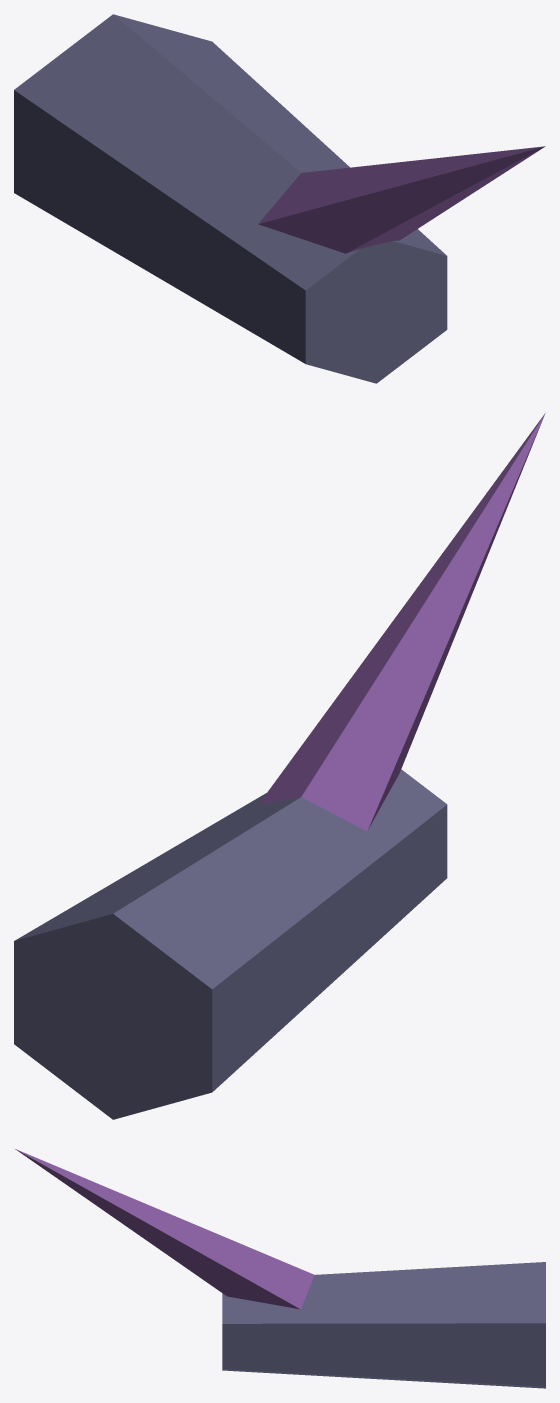
File: shadow_stalker_tail.glb
The picture shows the model from 3 angles, top to bottom: view 1: azimuth 30°, elevation 25°; view 2: azimuth 150°, elevation 25°; view 3: azimuth 270°, elevation 25°; orthographic projection. The views are drawn at different scales.
Visible parts, largest first — view 1: shadow_stalker_tail; view 2: shadow_stalker_tail; view 3: shadow_stalker_tail.
Boxes of the visible parts, box(x1,y1,x2,y2) form: shadow_stalker_tail: box(14, 14, 545, 383); shadow_stalker_tail: box(14, 413, 545, 1119); shadow_stalker_tail: box(15, 1149, 545, 1388).
Bounding box in the file's own units: 0.2085 × 0.393 × 0.7886.
